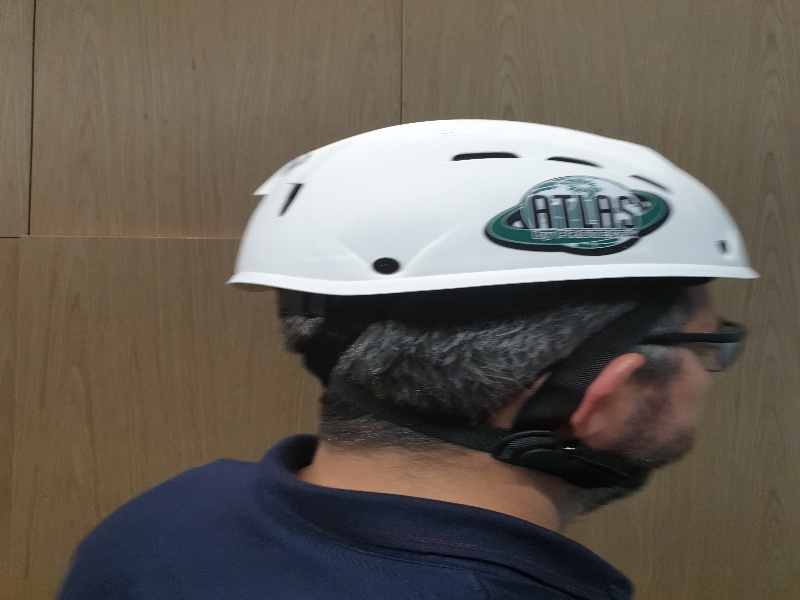Baret: (222, 119, 764, 282)
